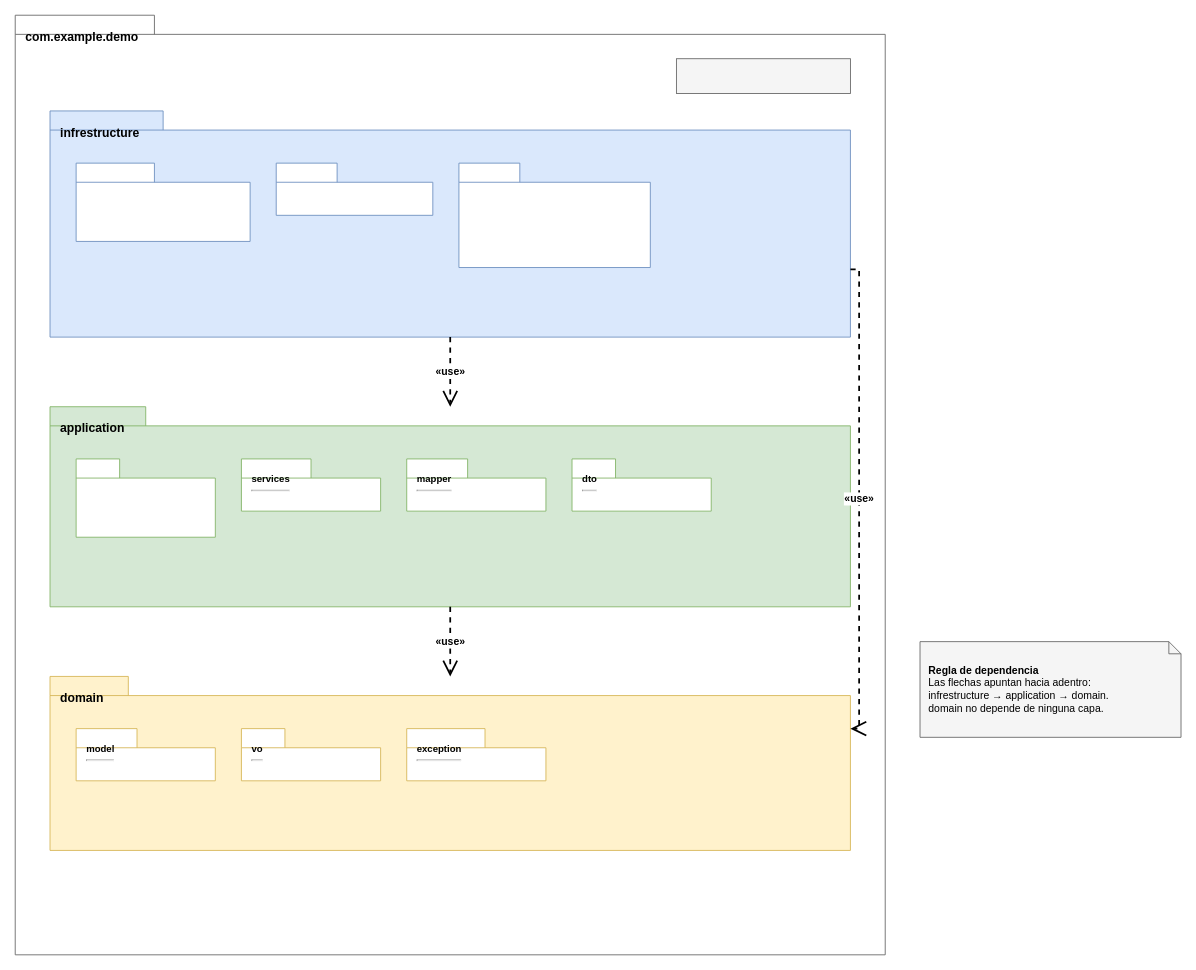
Some shapes in this 1196 by 970 pixel diagram are drawn without their labels. The shapes that lost their labels are listed below. From the top down, each one's centre as x and y in pixels, then its label:
At (x=763, y=76): "DemoApplication".
At (x=162, y=201): "controller request".
At (x=354, y=188): "config".
At (x=554, y=215): "adapter repositories.person repositories.session security".
At (x=145, y=497): "port in out".
